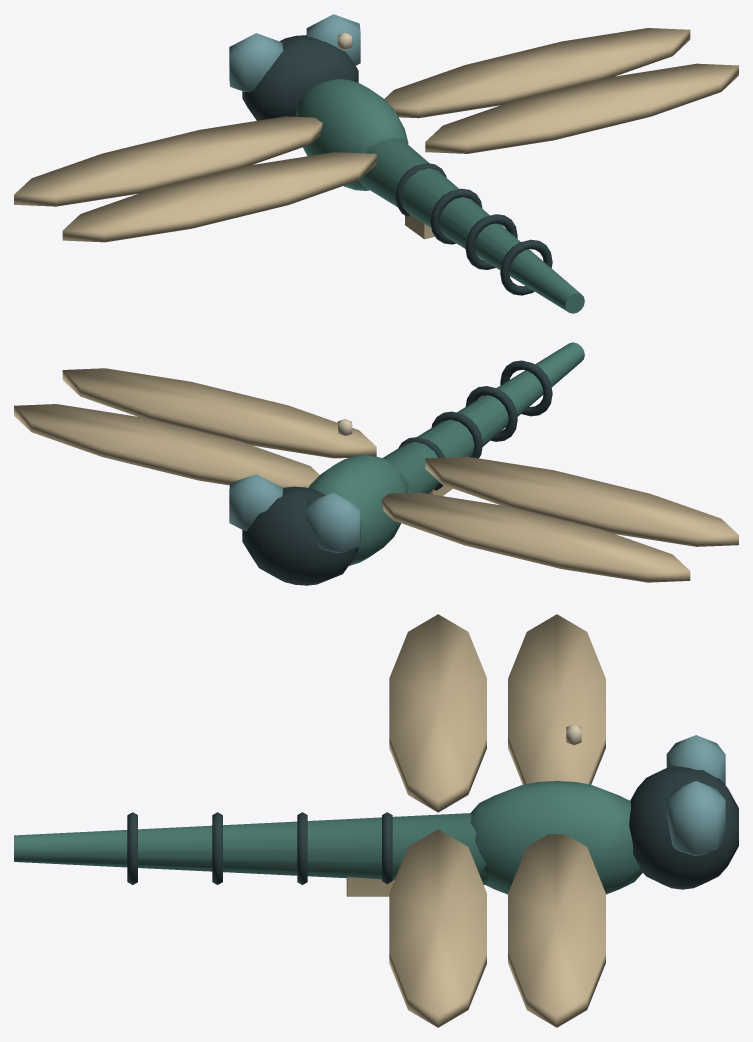
The model's file is insect_dragonfly_emperor.glb.
The picture shows the model from 3 angles, top to bottom: view 1: azimuth 30°, elevation 25°; view 2: azimuth 150°, elevation 25°; view 3: azimuth 270°, elevation 25°; orthographic projection. The views are drawn at different scales.
Bounding box in the file's own units: 0.2799 × 0.057 × 0.2136.
